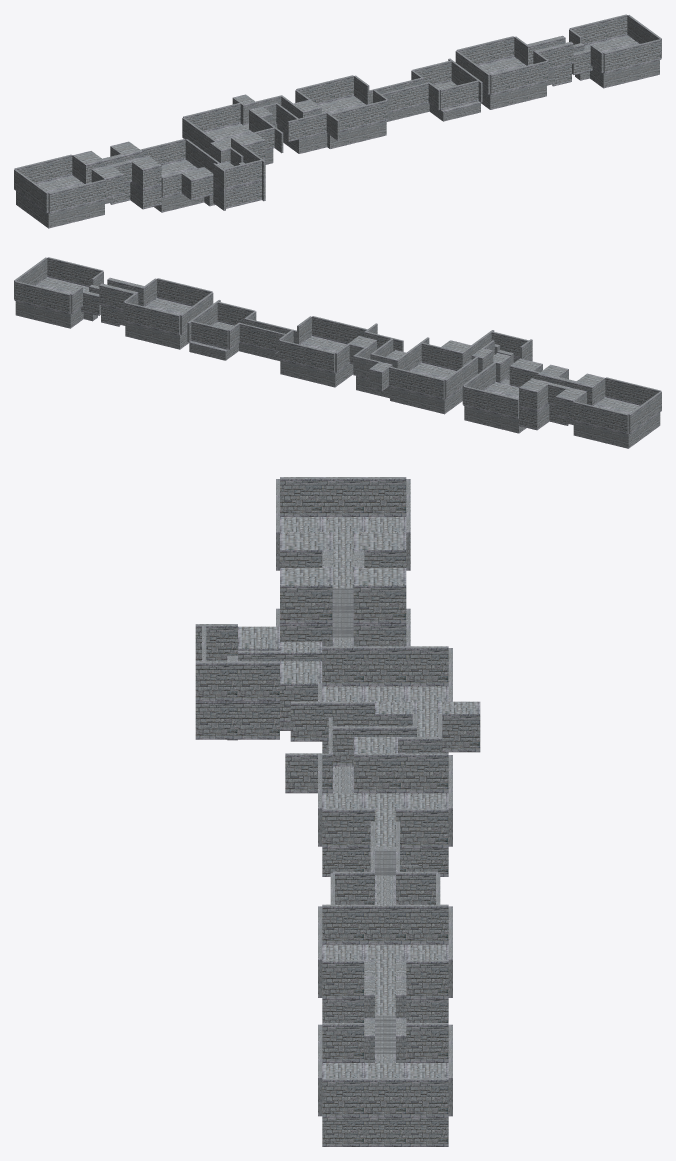
File: RPG.stage.fbx
3 renders of one model, top to bottom at view 1: azimuth 30°, elevation 25°; view 2: azimuth 150°, elevation 25°; view 3: azimuth 270°, elevation 25°, orthographic. The views are drawn at different scales.
Visible parts, largest first — view 1: Box861, Box862, Box866, Box867, Box864, Box855, Box738, Box717, Box741, Box538, Box589, Box729 (+41 smaller); view 2: Box855, Box863, Box867, Box866, Box861, Box865, Box588, Box852, Box337, Box363, Box736, Box818 (+44 smaller); view 3: Box863, Box862, Box588, Box848, Box849, Box844, Box843, Box855, Box845, Box517, Box832, Box837 (+36 smaller).
Boxes of the visible parts, x1,y1,x2,y2 form: Box861: (181,167,213,200); Box862: (129,155,161,189); Box866: (91,164,123,198); Box867: (72,151,104,183); Box864: (130,182,161,209); Box855: (231,132,265,159); Box738: (592,67,622,88); Box717: (37,207,67,228); Box741: (603,48,623,73); Box538: (161,172,181,197); Box589: (287,117,307,141); Box729: (48,188,68,213); Box855: (439,340,472,370); Box863: (519,378,549,411); Box867: (555,387,586,419); Box866: (574,373,605,405); Box861: (509,358,542,387); Box865: (519,403,549,430); Box588: (369,361,392,391); Box852: (349,336,376,364); Box337: (426,393,455,414); Box363: (317,366,345,387); Box736: (52,308,80,328); Box818: (99,283,119,308); Box863: (353,568,406,623); Box862: (280,568,332,623); Box588: (438,701,480,752); Box848: (396,808,448,848); Box849: (322,808,374,848); Box844: (401,753,448,793); Box843: (354,753,401,793); Box855: (280,661,322,721); Box845: (285,753,332,793); Box517: (406,646,448,686); Box832: (406,904,448,944); Box837: (406,959,448,999).
Bounding box in the file's own units: 33200 × 2400 × 6750.
